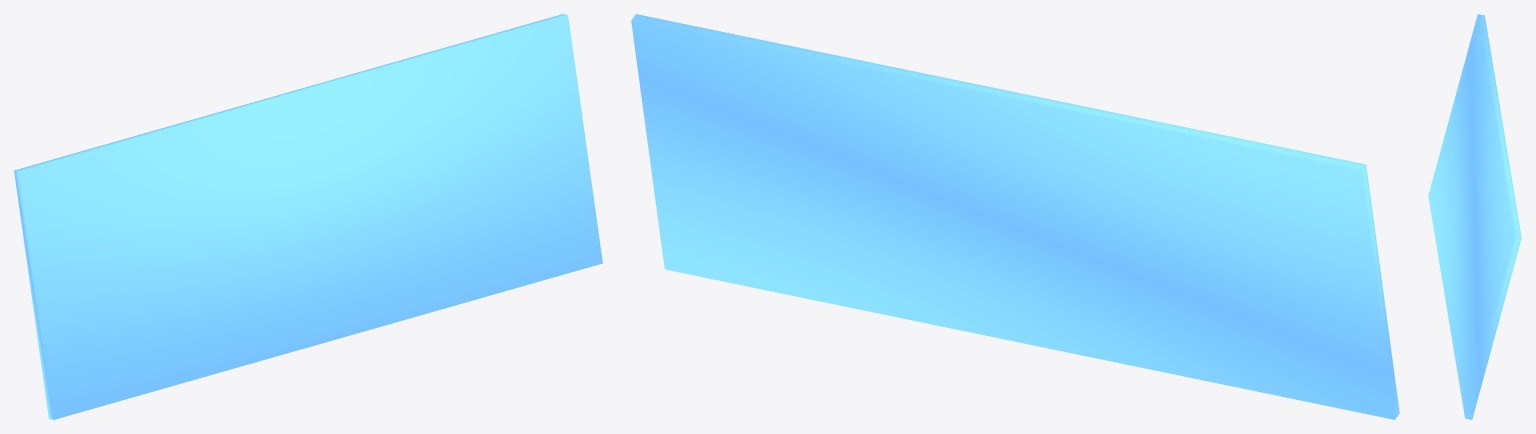
The model's file is GEO_Cockpit_Center_Infotainment_OLED.glb.
The picture shows the model from 3 angles, left to right: view 1: azimuth 30°, elevation 25°; view 2: azimuth 150°, elevation 25°; view 3: azimuth 270°, elevation 25°; orthographic projection. The views are drawn at different scales.
Parts seen in each view (by area): view 1: GEO_Cockpit_Center_Infotainment_OLED; view 2: GEO_Cockpit_Center_Infotainment_OLED; view 3: GEO_Cockpit_Center_Infotainment_OLED.
Part boxes in pixels (left/top/right/bottom): GEO_Cockpit_Center_Infotainment_OLED: left=14, top=14, right=602, bottom=419; GEO_Cockpit_Center_Infotainment_OLED: left=631, top=14, right=1399, bottom=419; GEO_Cockpit_Center_Infotainment_OLED: left=1428, top=14, right=1521, bottom=419.
Bounding box in the file's own units: 0.3618 × 0.1371 × 0.0637.
